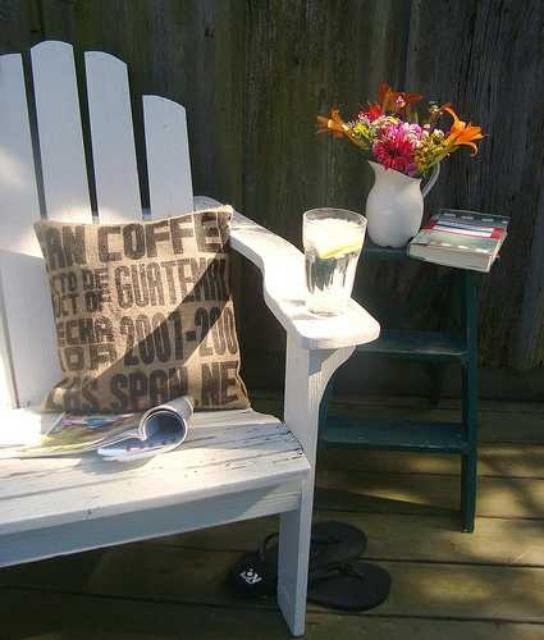pillow: (32, 202, 250, 414)
